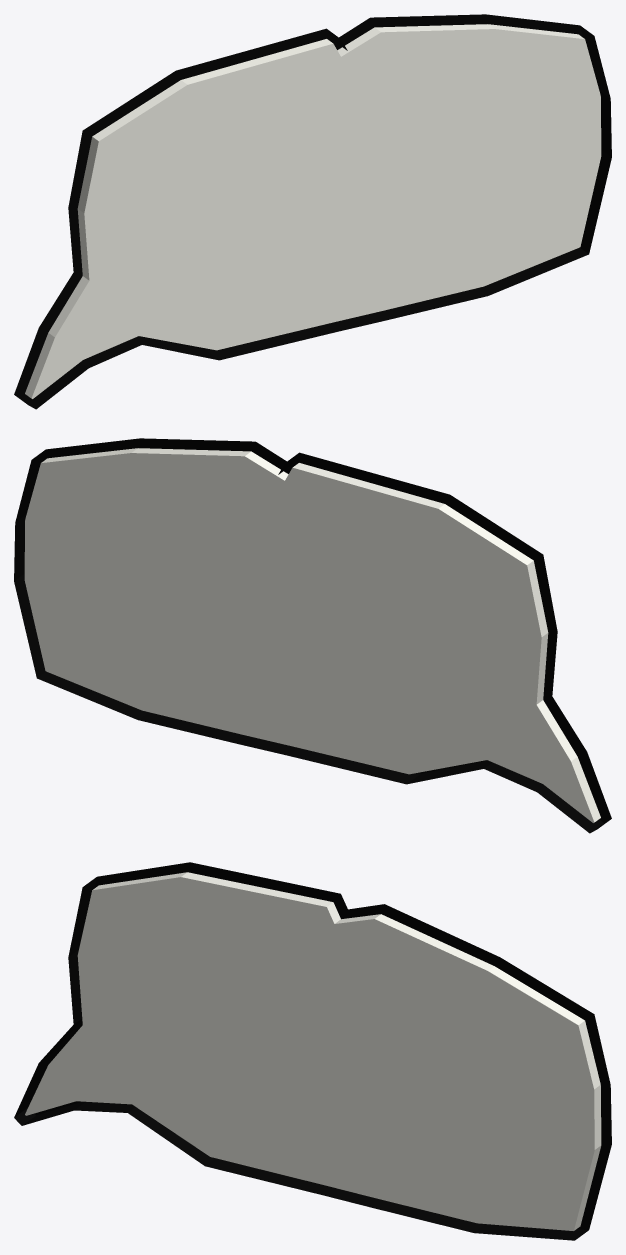
The model's file is Speechbubble.fbx.
3 views of the same model, one above another, from view 1: azimuth 30°, elevation 25°; view 2: azimuth 150°, elevation 25°; view 3: azimuth 330°, elevation 25° (orthographic).
Visible parts, largest first — view 1: Speech_Bubble; view 2: Speech_Bubble; view 3: Speech_Bubble.
Boxes of the visible parts, left/top/right/bottom form: Speech_Bubble: left=14, top=14, right=611, bottom=409; Speech_Bubble: left=14, top=438, right=611, bottom=833; Speech_Bubble: left=14, top=862, right=611, bottom=1240.
Size of the model in its own units: 609 by 296 by 25.96.
